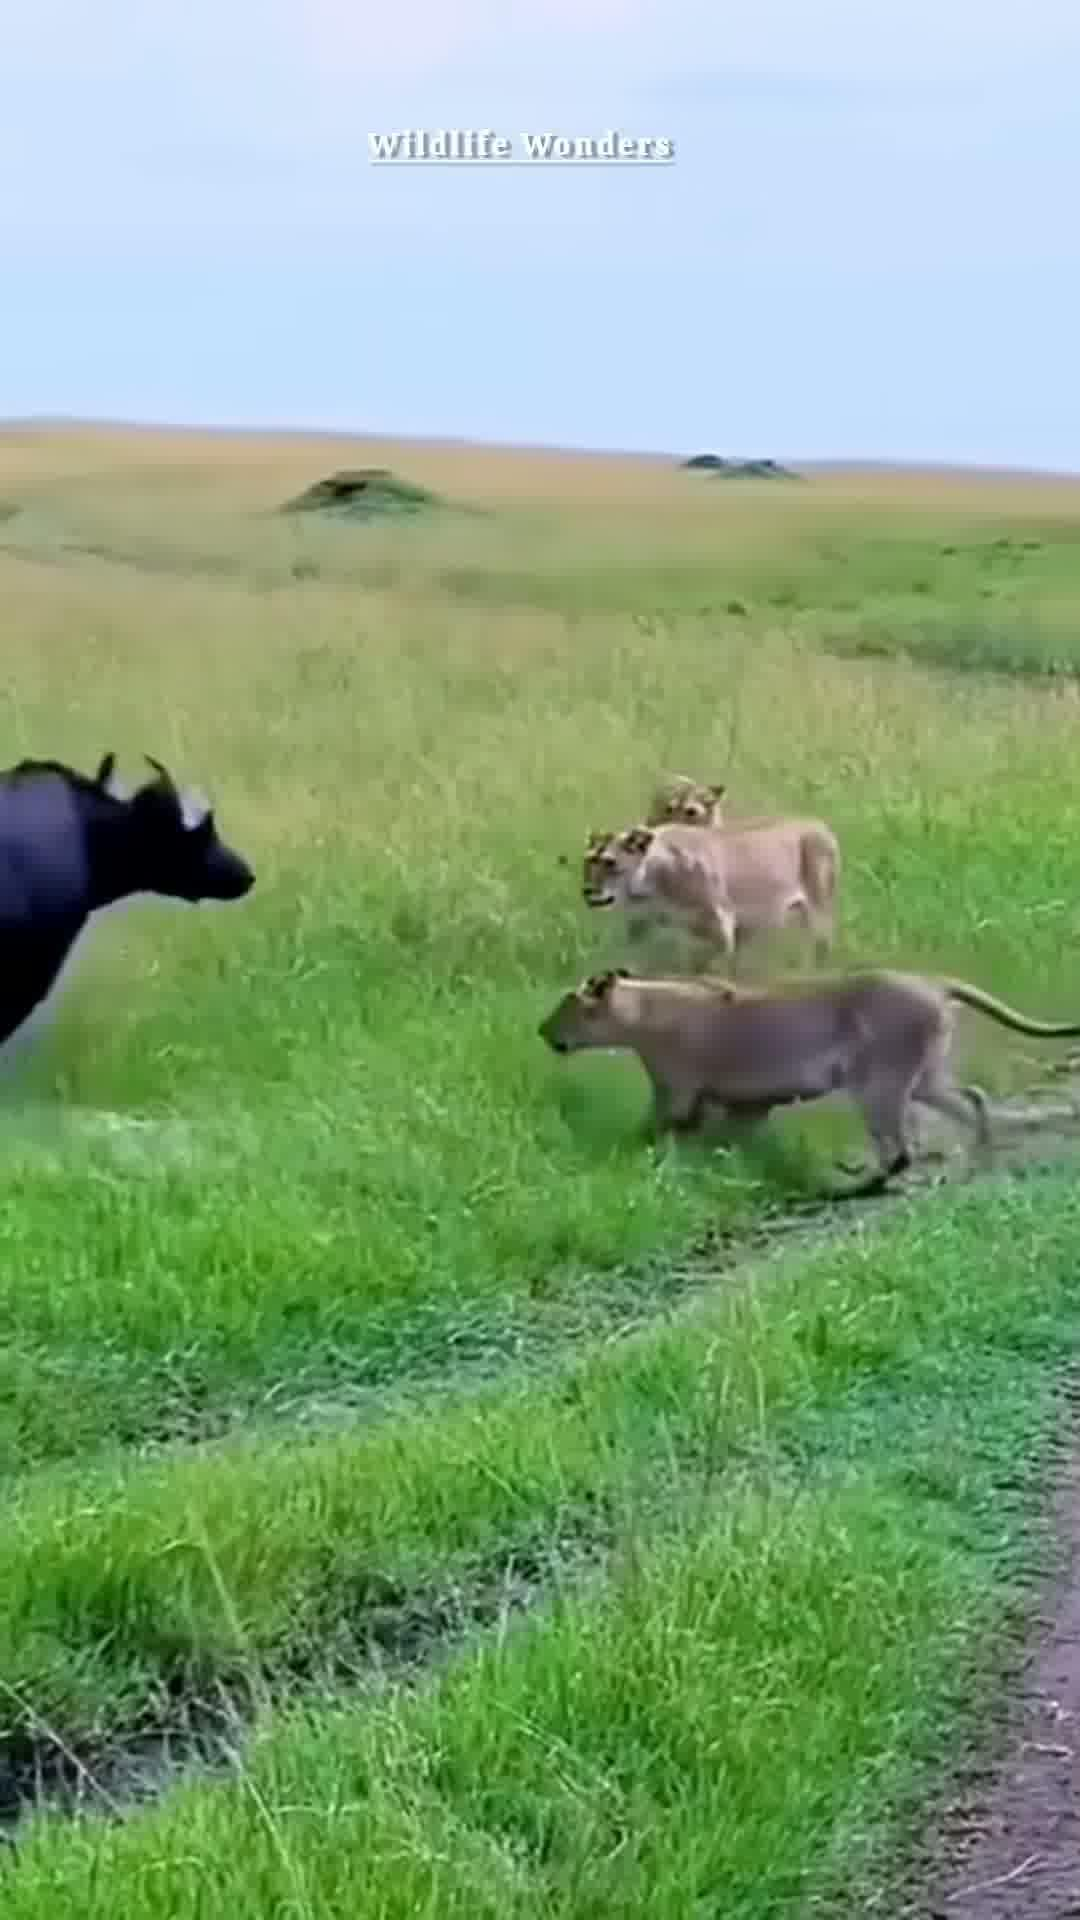lions: (500, 752, 1080, 1366)
